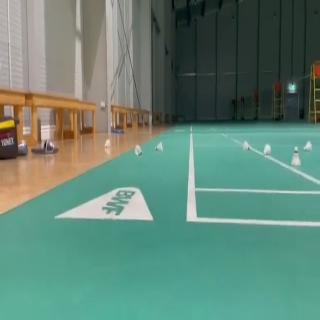Shuttle: (290, 146, 300, 166), (303, 140, 312, 152), (135, 144, 143, 156), (263, 143, 271, 155), (243, 140, 251, 151), (155, 141, 163, 151), (104, 138, 111, 148)
